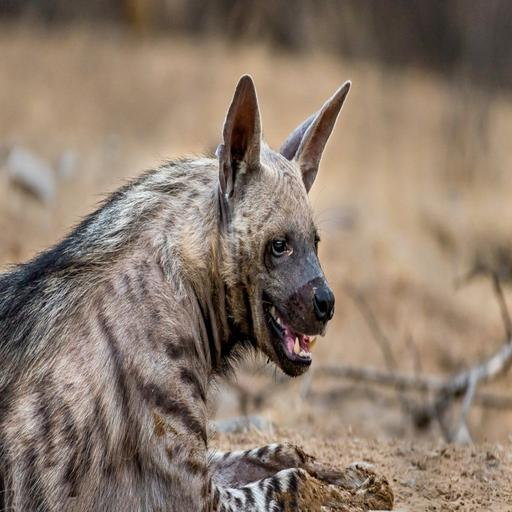Hyena: (0, 66, 392, 510)
